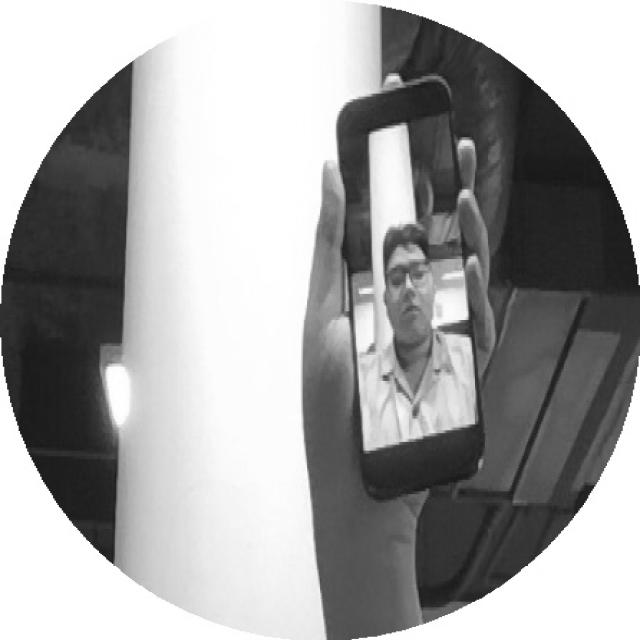fake: (312, 69, 519, 500), (360, 219, 475, 408)
